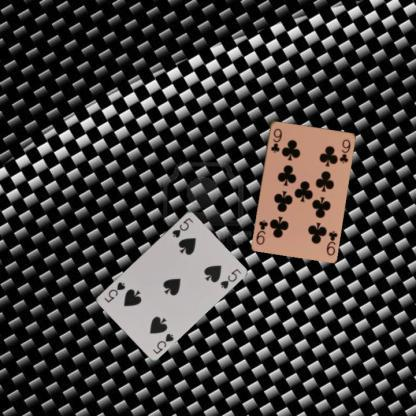5s: (150, 330, 175, 355), (169, 216, 195, 238)
9c: (268, 125, 283, 154), (324, 228, 338, 257)
